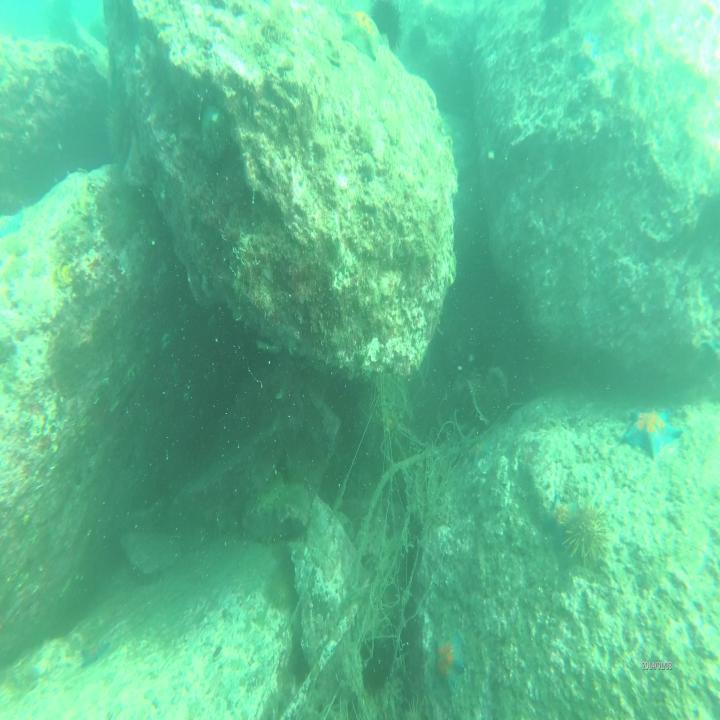echinus: (568, 506, 607, 572), (269, 570, 292, 608)
starfish: (625, 398, 684, 461), (339, 7, 385, 65), (431, 631, 465, 695), (545, 489, 578, 545), (572, 33, 599, 77), (80, 638, 109, 670)
